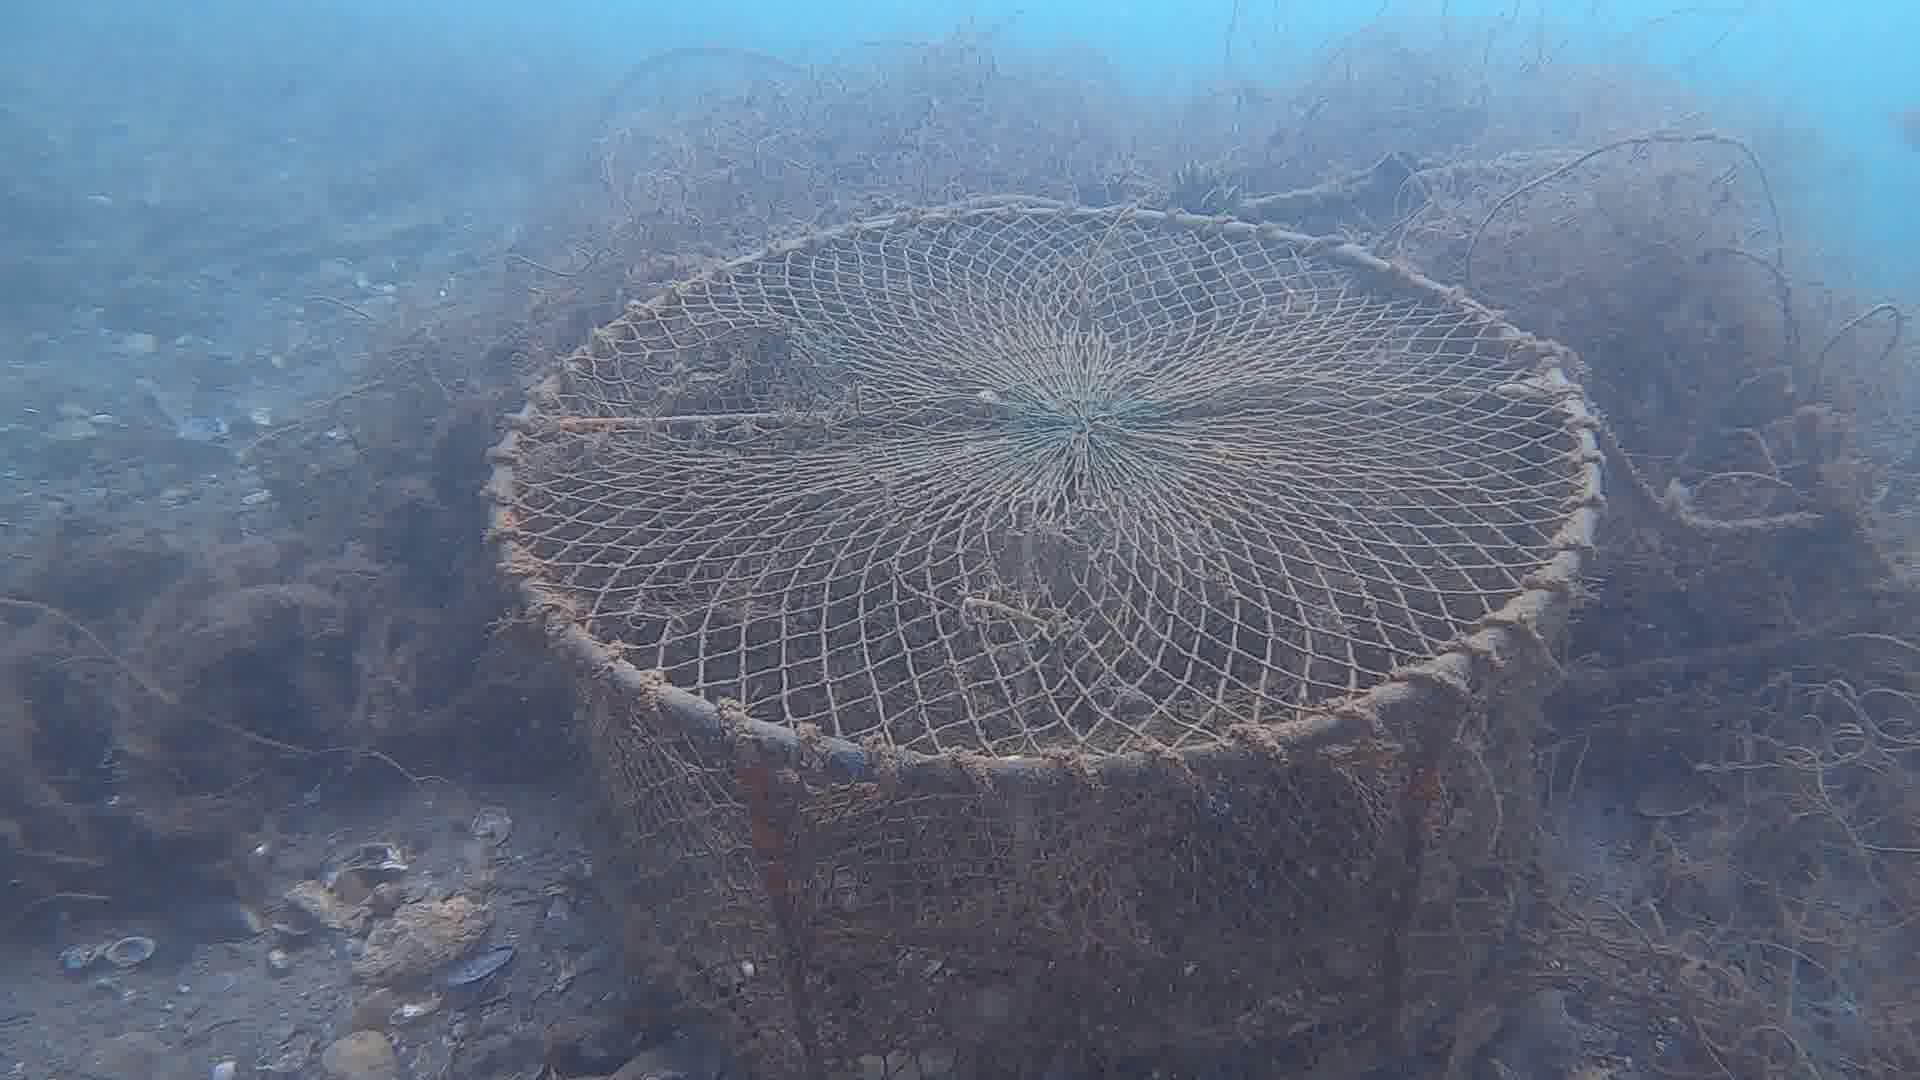circular fish trap: (480, 199, 1609, 1080)
